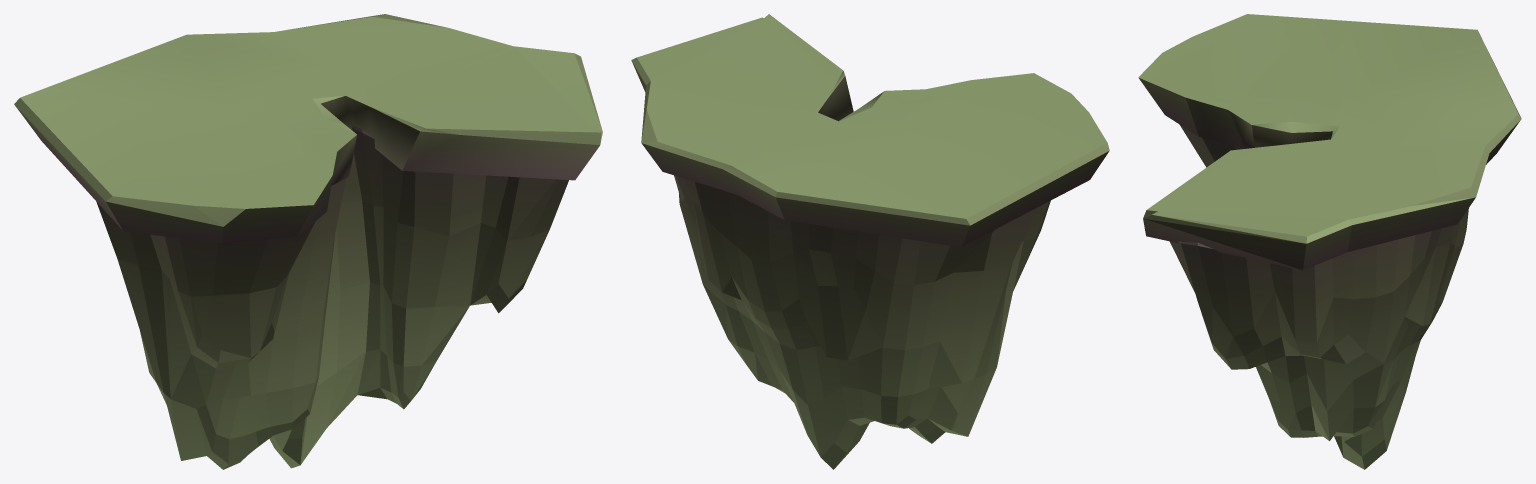
File: Floating_Island_Bioma2.fbx
3 renders of one model, left to right at view 1: azimuth 30°, elevation 25°; view 2: azimuth 150°, elevation 25°; view 3: azimuth 270°, elevation 25°, orthographic. The views are drawn at different scales.
Visible parts, largest first — view 1: floe.013, Hill_desert_005.002; view 2: floe.013, Hill_desert_005.002; view 3: floe.013, Hill_desert_005.002.
Boxes of the visible parts, x1,y1,x2,y2 form: floe.013: [14, 14, 602, 243]; Hill_desert_005.002: [96, 125, 568, 469]; floe.013: [631, 14, 1109, 247]; Hill_desert_005.002: [674, 175, 1050, 469]; floe.013: [1138, 14, 1521, 270]; Hill_desert_005.002: [1169, 124, 1468, 469].
Size of the model in its own units: 1800 by 1288 by 1288.
